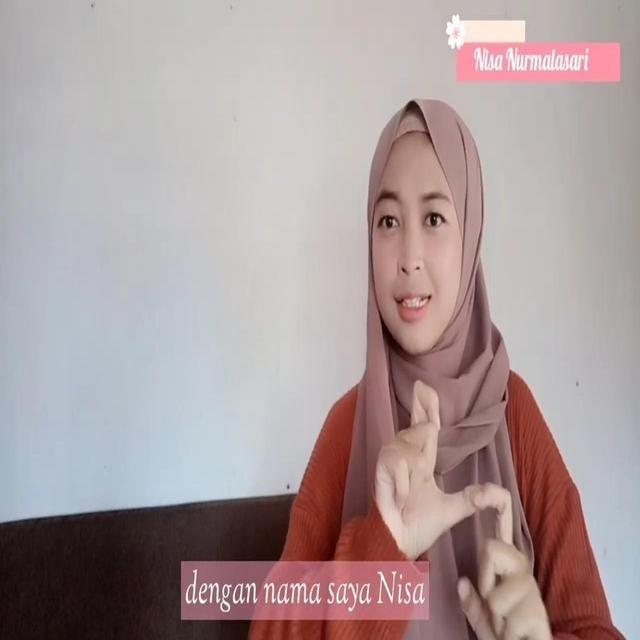S: (374, 366, 570, 640)
